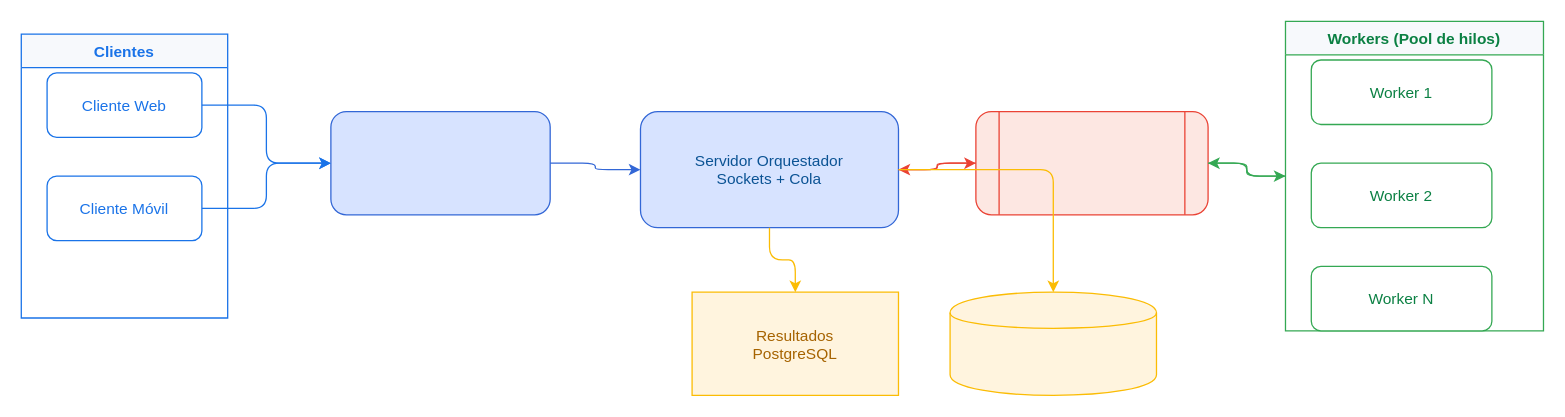
Image size: 1565x417. Some labels were removed from this diagram. Here are the shapes that lost their labels. From the top down, the centre of each, then its label:
At point (440, 162): "Balanceador TCP Nginx / HAProxy".
At point (1091, 162): "Cola de Mensajes RabbitMQ".
At point (1052, 343): "Artefactos S3 / MinIO".
